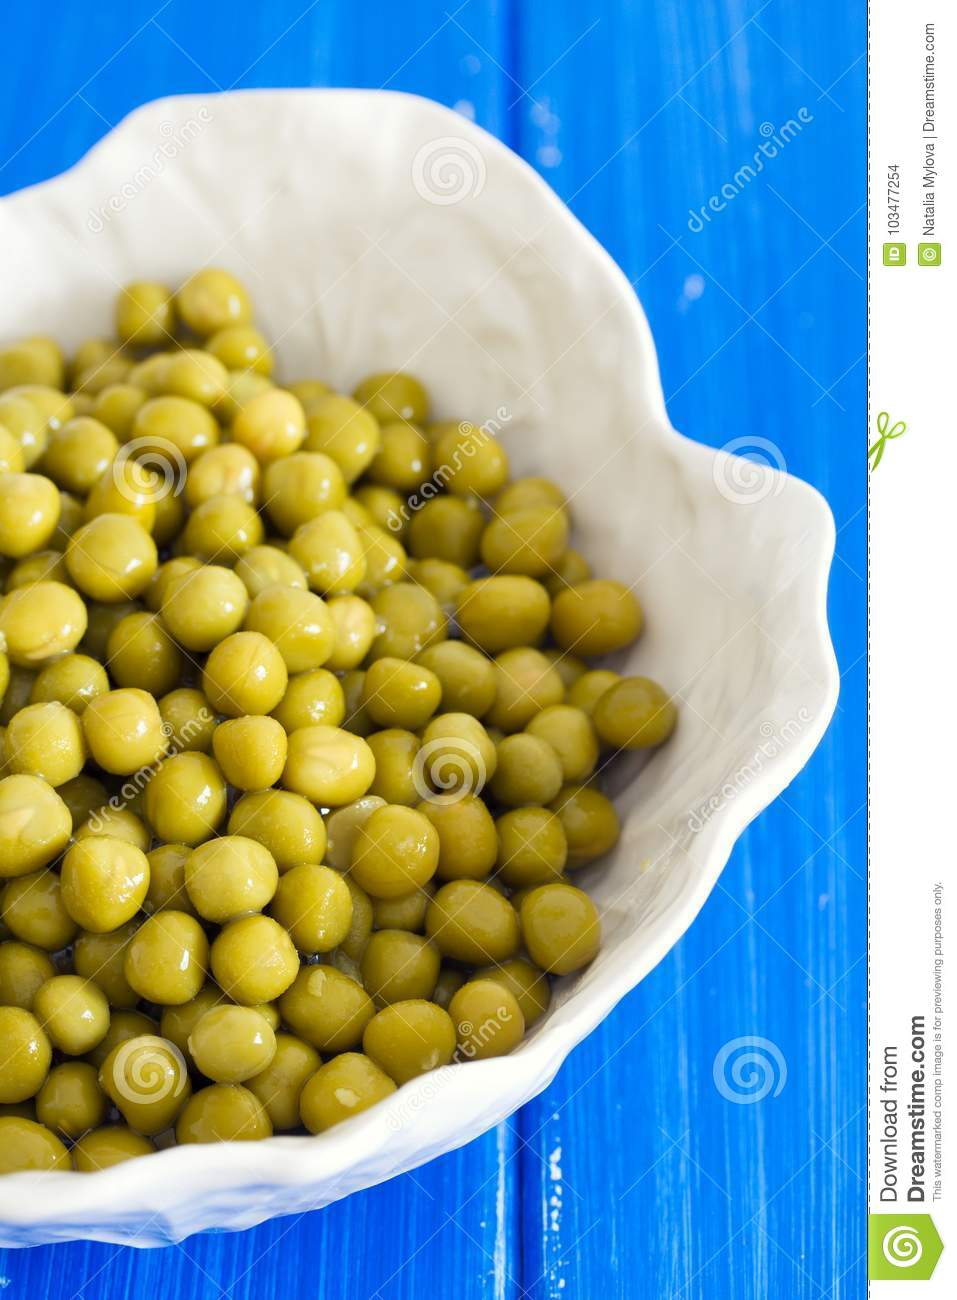boiled peas: (1, 341, 592, 1109)
